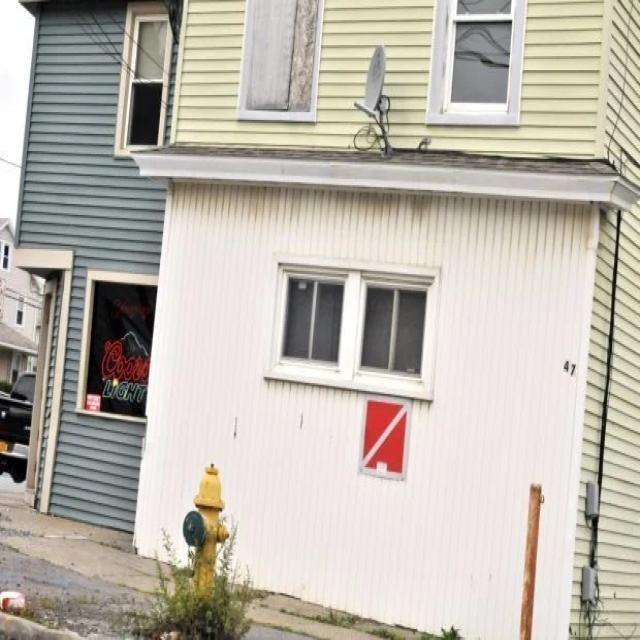House: (130, 1, 640, 640)
